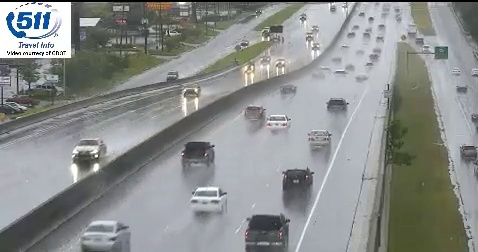car: (246, 214, 289, 252), (81, 221, 130, 252), (191, 186, 226, 213), (182, 142, 215, 164), (283, 167, 312, 190), (266, 115, 290, 131), (308, 131, 330, 147), (244, 106, 264, 120), (327, 99, 346, 113)
